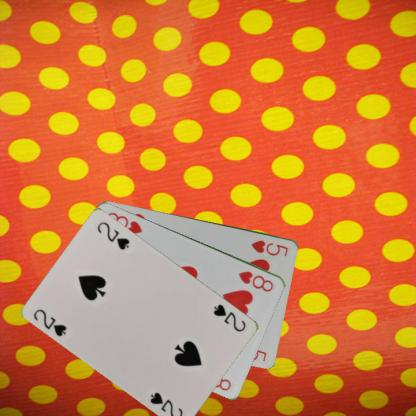2s: (211, 301, 248, 333), (31, 306, 68, 338)
5h: (249, 237, 289, 258)
8h: (236, 268, 275, 293)
